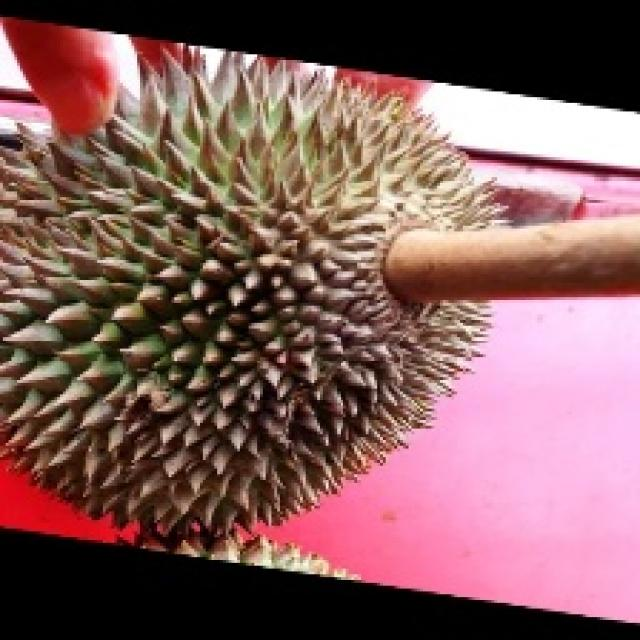d175: (0, 61, 609, 548)
